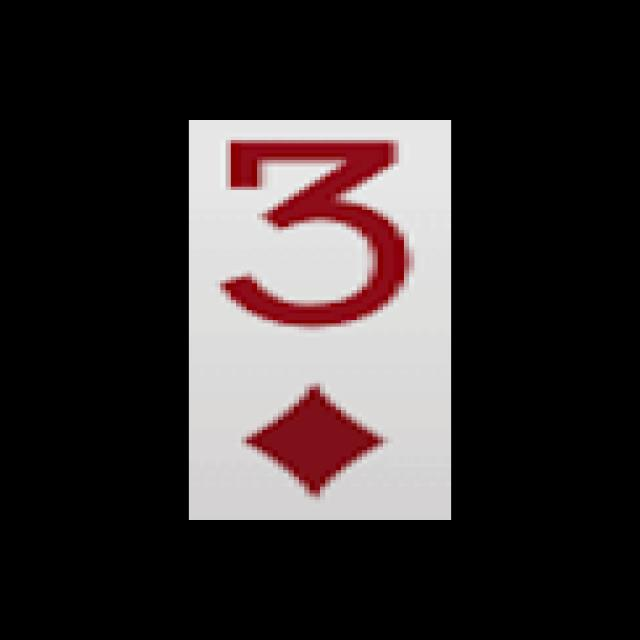3D: (204, 131, 428, 509)
